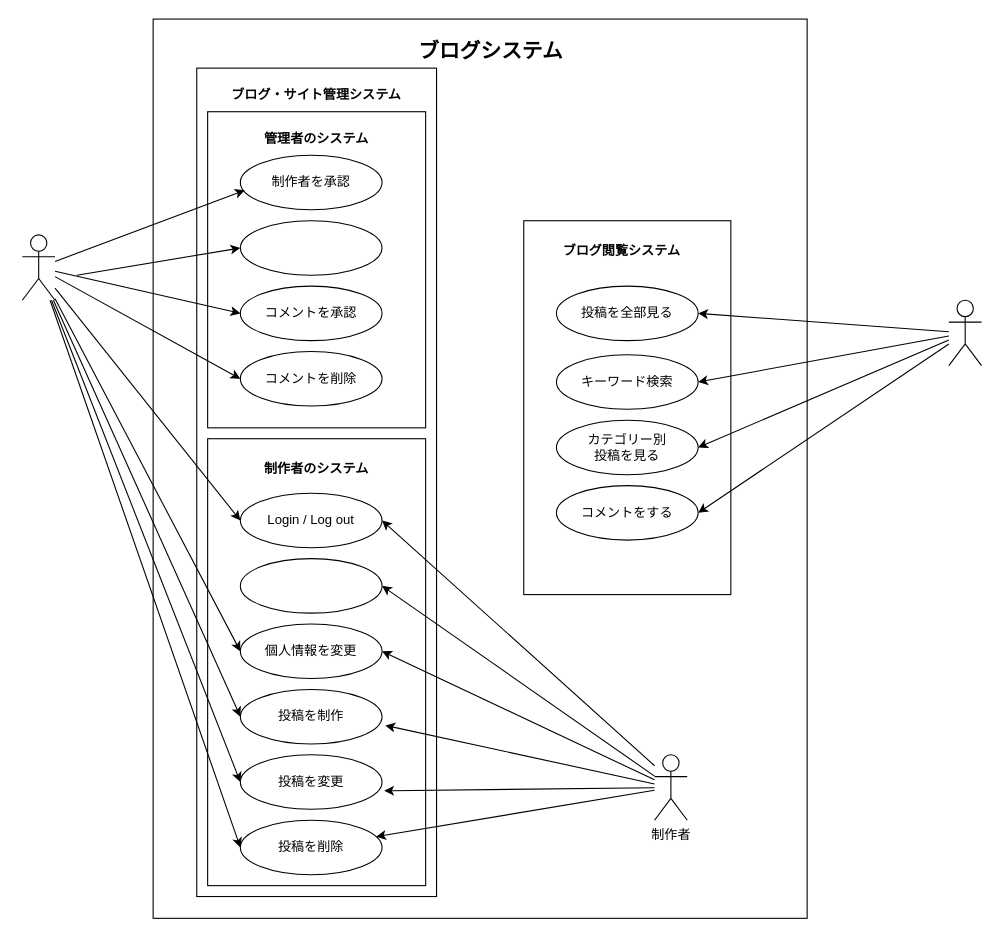
This 1003x937 diagram has some shape labels left out. Here are the shapes that lost their labels. From the top down, the centre of each, then its label:
the point at 38,267: 管理者
the point at 310,247: 制作者を削除
the point at 965,332: 閲覧者
the point at 310,585: 制作者として登録
